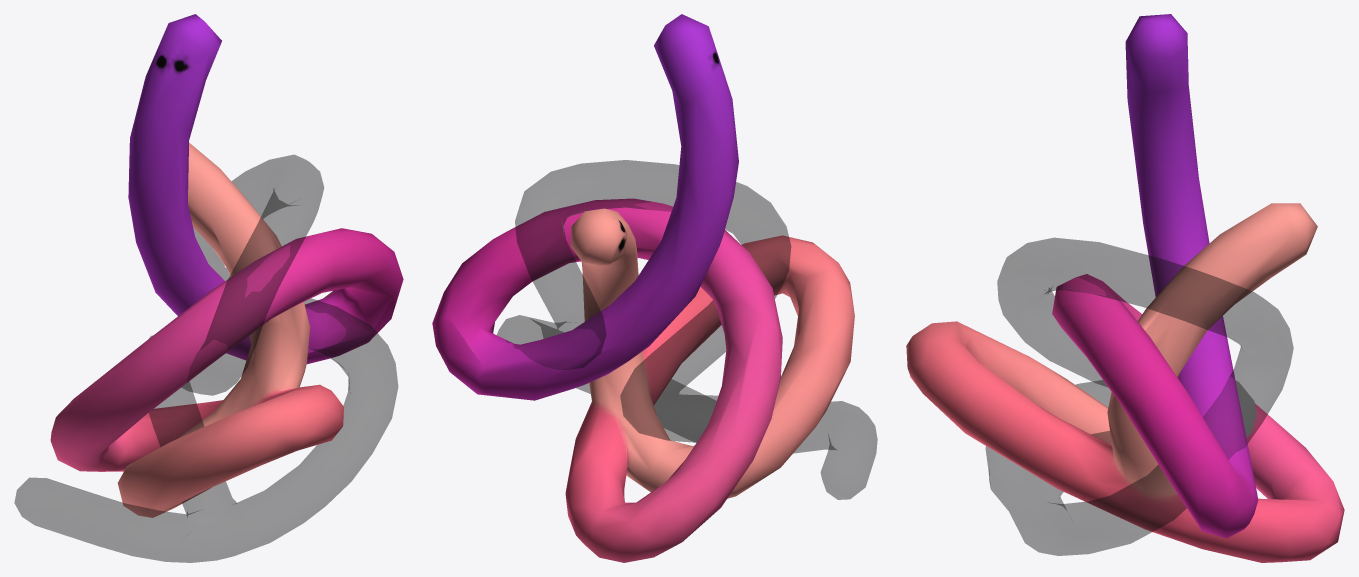
3 renders of one model, left to right at view 1: azimuth 30°, elevation 25°; view 2: azimuth 150°, elevation 25°; view 3: azimuth 270°, elevation 25°, orthographic. The views are drawn at different scales.
Visible parts, largest first — view 1: helix, S; view 2: helix, S; view 3: helix, S.
Boxes of the visible parts, x1=… form: helix: x1=50, y1=14, x2=403, y2=517; S: x1=14, y1=155, x2=397, y2=562; helix: x1=432, y1=14, x2=854, y2=562; S: x1=497, y1=160, x2=877, y2=499; helix: x1=906, y1=14, x2=1344, y2=562; S: x1=985, y1=238, x2=1293, y2=555.
Size of the model in its own units: 358 by 423 by 314.
Materials: 2 (2 with a texture image).
